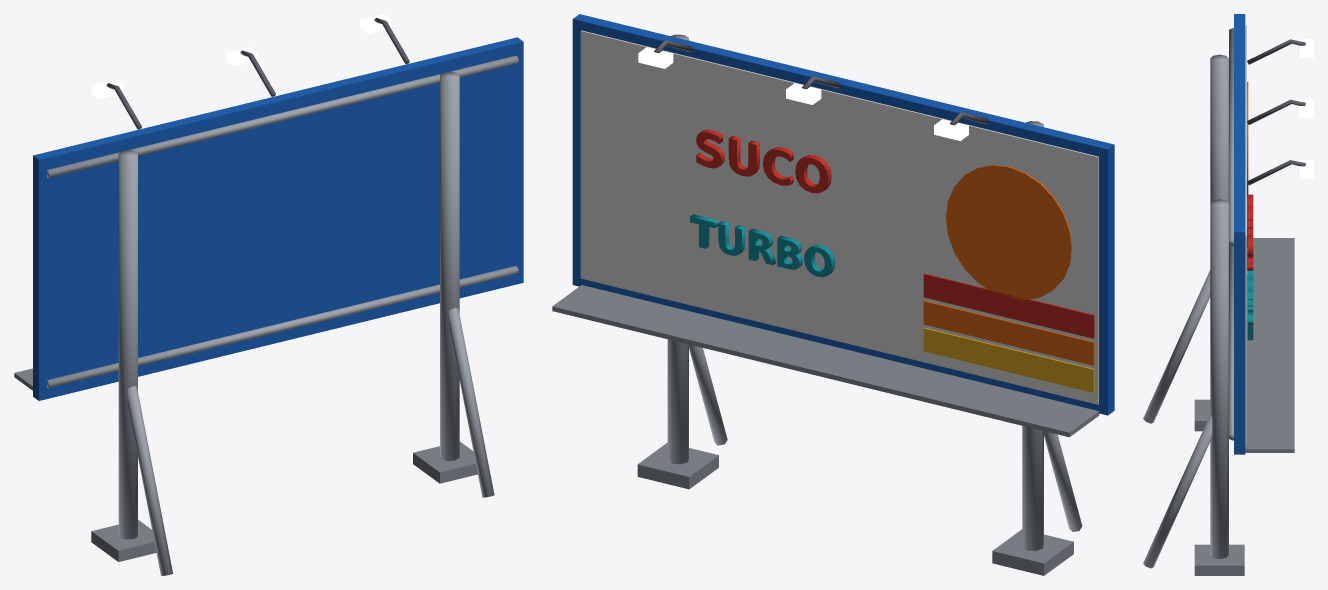
The model's file is billboard.glb.
The picture shows the model from 3 angles, left to right: view 1: azimuth 30°, elevation 25°; view 2: azimuth 150°, elevation 25°; view 3: azimuth 270°, elevation 25°; orthographic projection. The views are drawn at different scales.
Visible parts, largest first — view 1: billboard_mesh; view 2: billboard_mesh; view 3: billboard_mesh.
Boxes of the visible parts, bbox=[...] form: billboard_mesh: bbox=[14, 14, 523, 575]; billboard_mesh: bbox=[552, 14, 1114, 575]; billboard_mesh: bbox=[1143, 14, 1313, 575].
Size of the model in its own units: 7.24 by 6.11 by 2.39.
